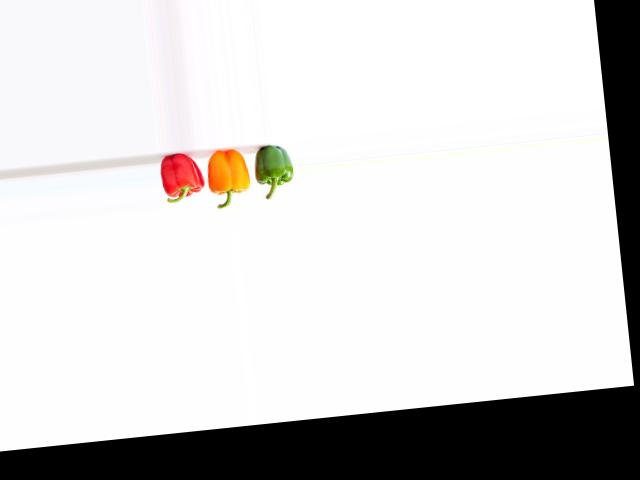bell_pepper: (156, 152, 207, 214)
